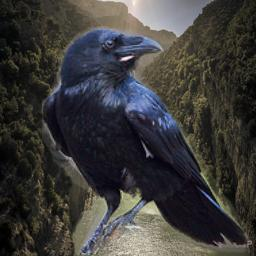Crow: (42, 26, 254, 255)
